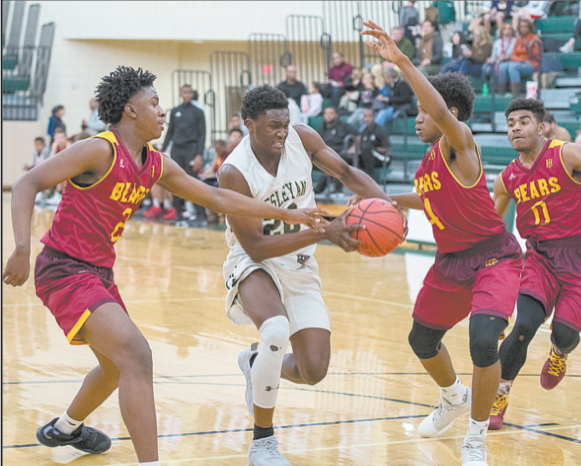ball: (342, 198, 405, 258)
player: (8, 67, 271, 466), (373, 23, 525, 466), (220, 84, 368, 466), (486, 97, 581, 429)
